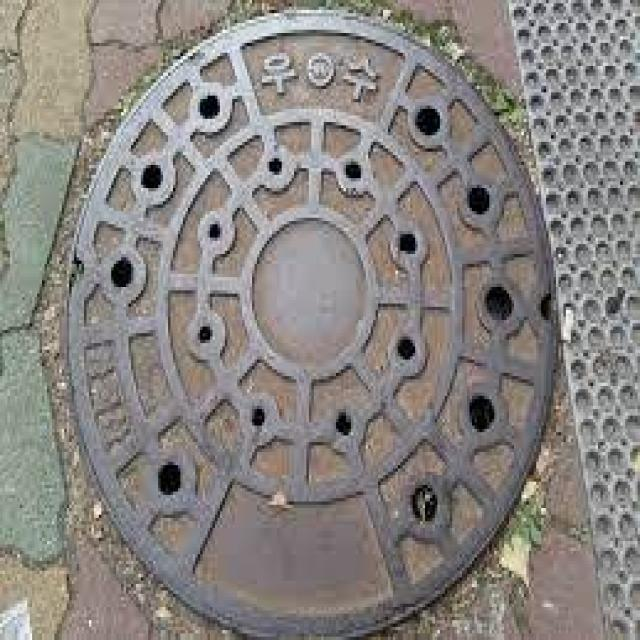manhole: (63, 10, 560, 640)
